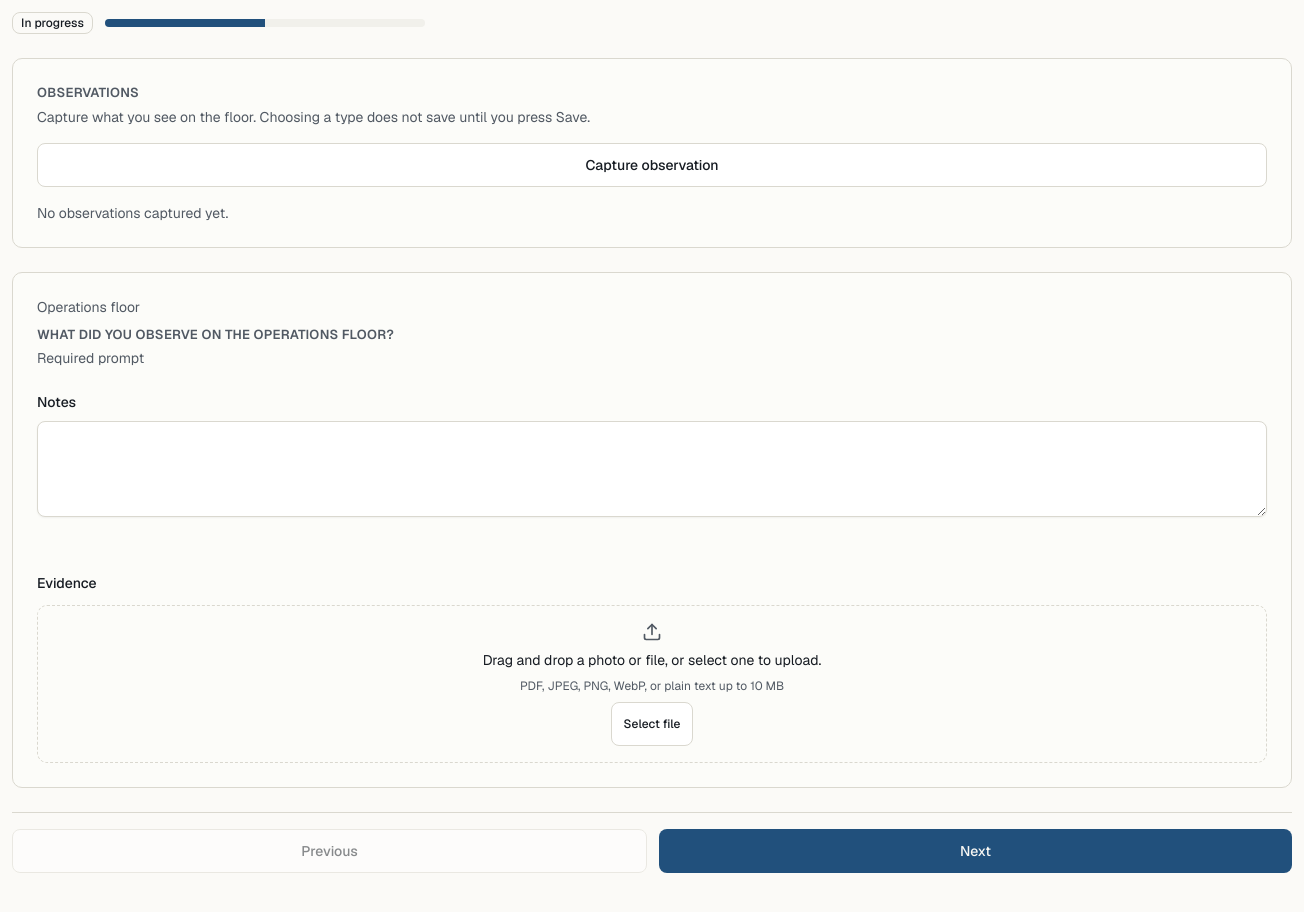
Test case: GembaWalkWorkspace answer state › retries a failed save and then shows confirmed Saved state
In the text box labelled "Notes": (652, 469) 37,421 -> 1267,517, type "retry notes"
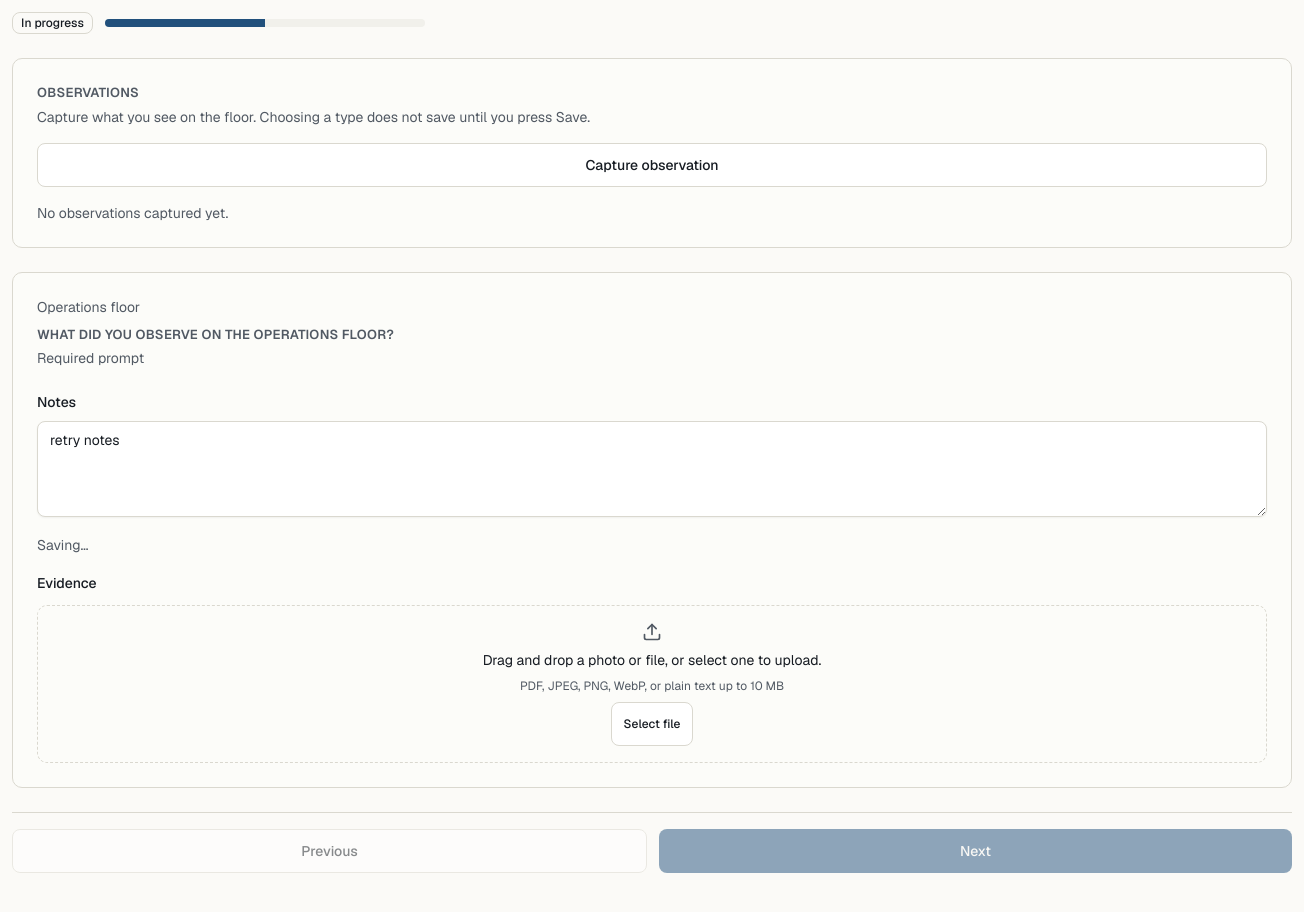
Leave the text box labelled "Notes", box 37,421 -> 1267,517
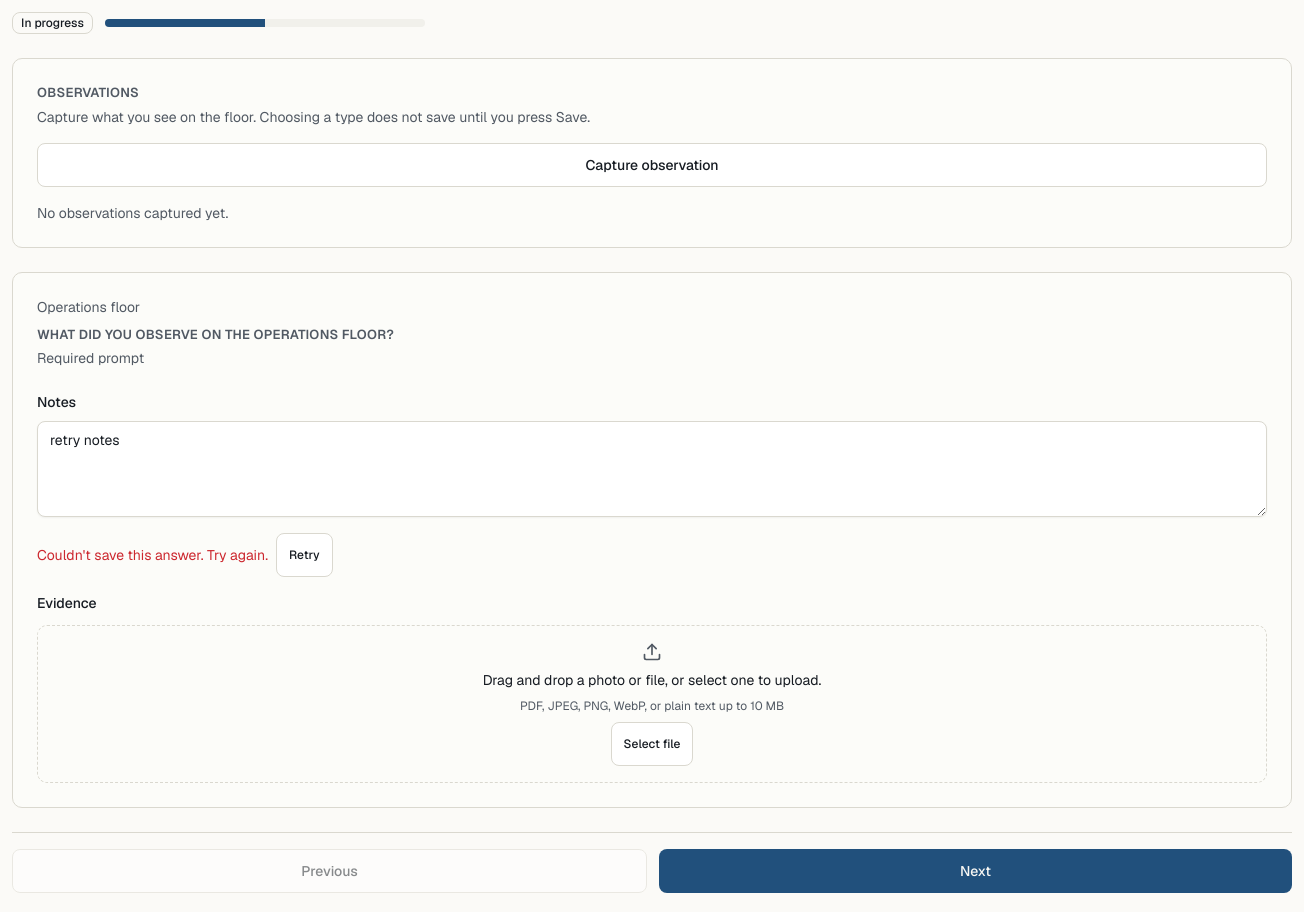
Expected: the text "Saved" is not shown
Expected: the button with test id "answer-save-retry" is shown
Click the button with test id "answer-save-retry": (304, 555) 276,533 -> 333,577
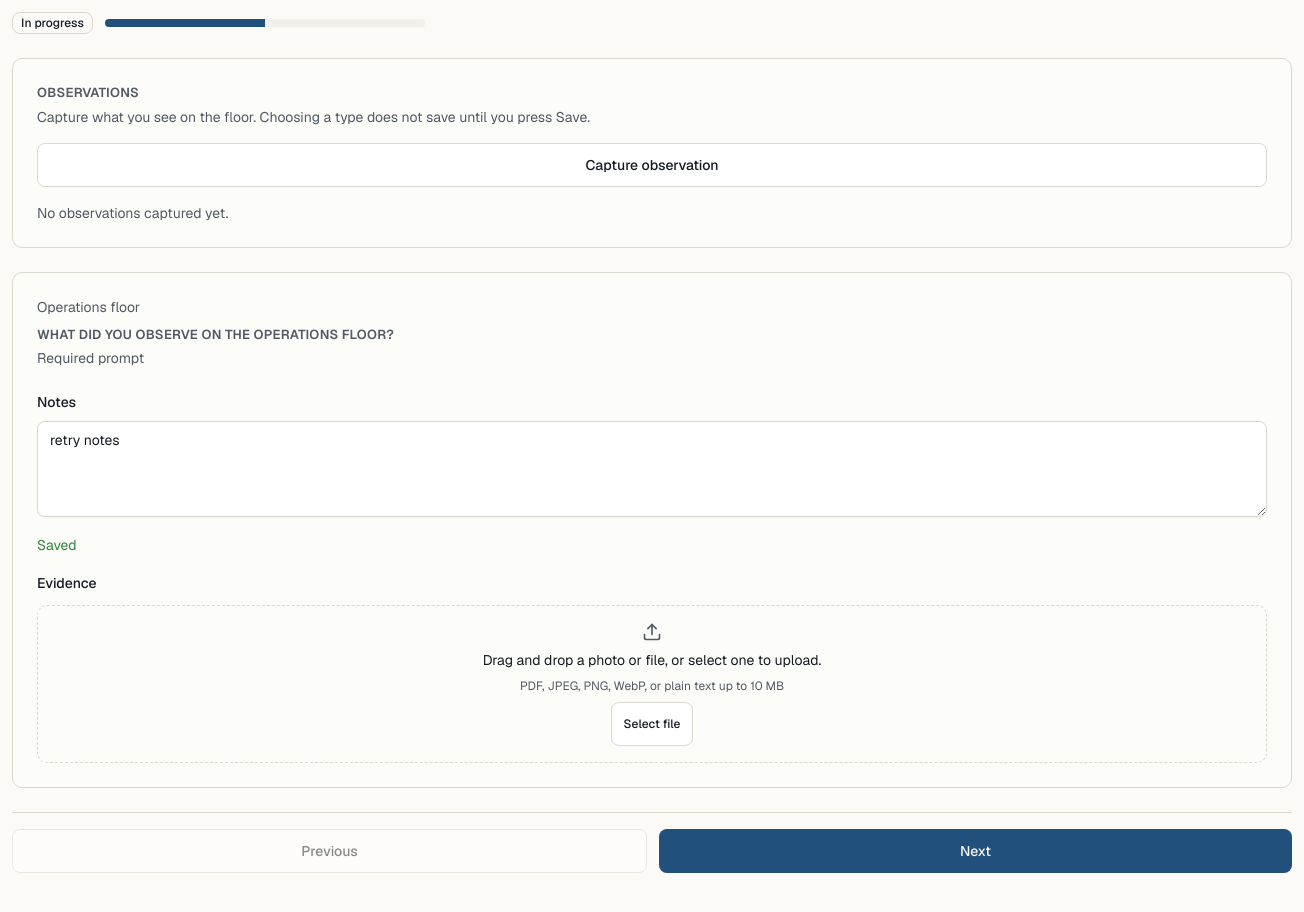
Expected: the element with test id "answer-save-status" reads "Saved", 37,536 -> 77,554
